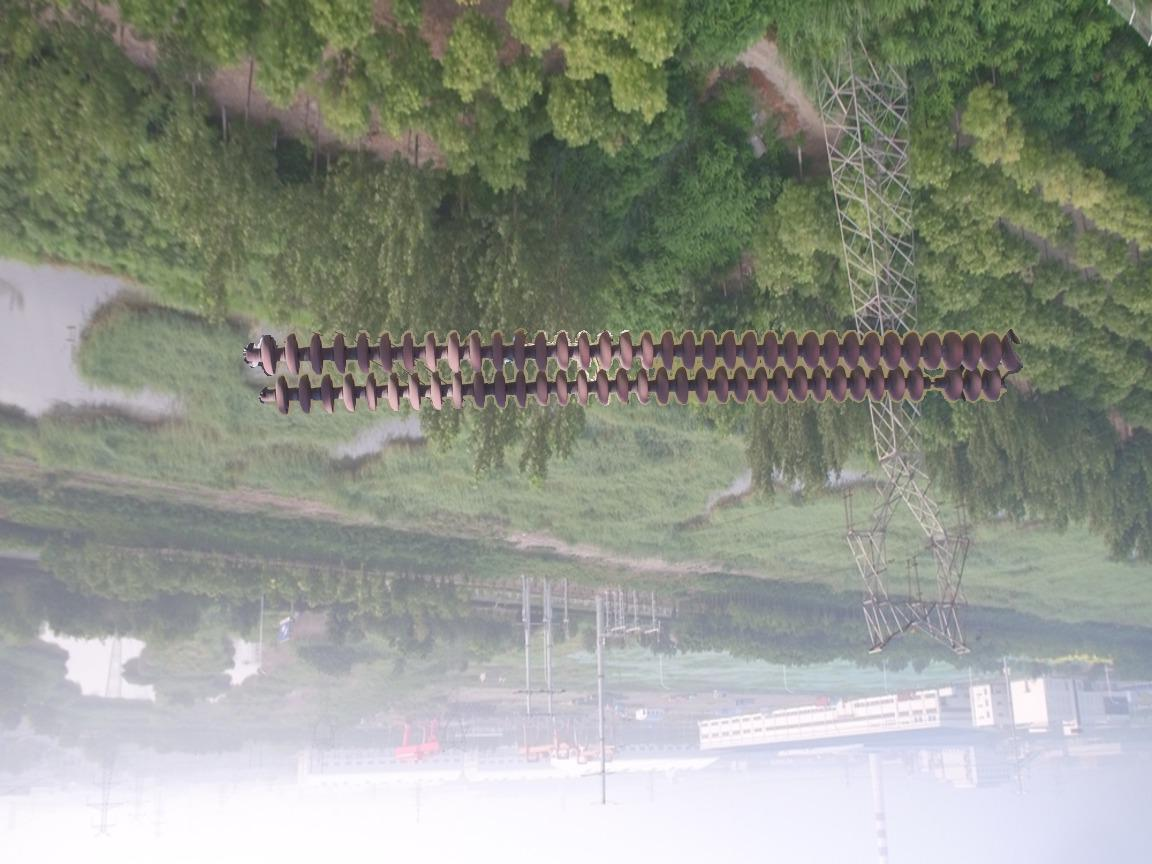insulator: (245, 322, 1026, 418)
insulator_stringdrop: (905, 365, 966, 404)
